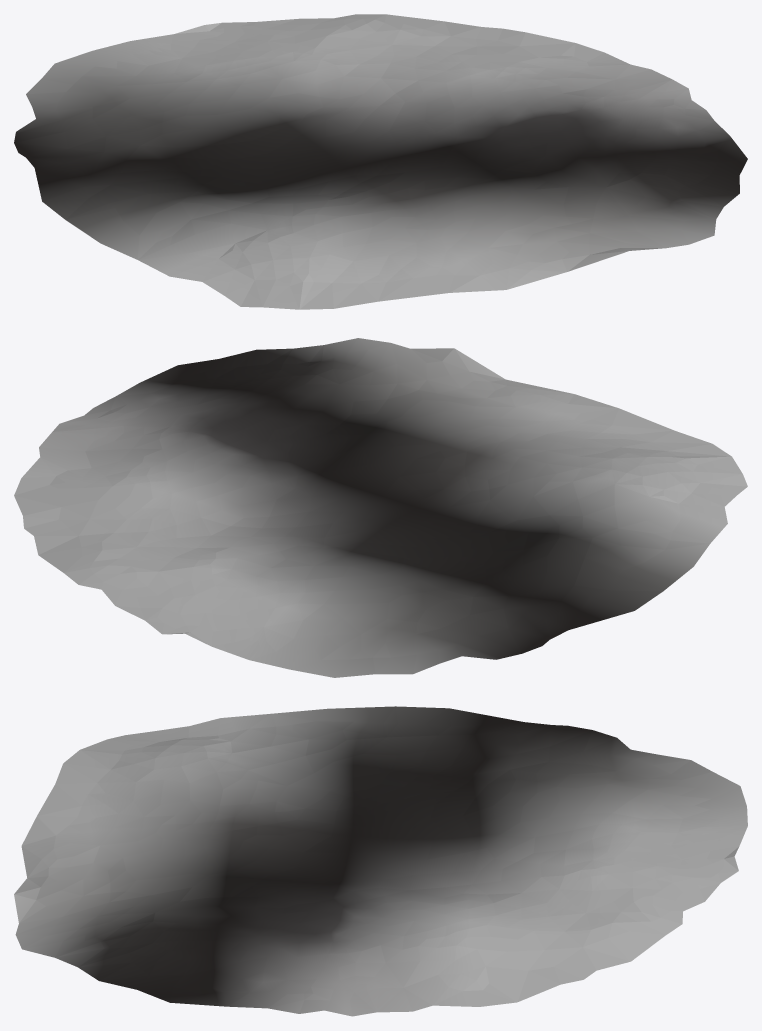
Rendered from SM_Gen_Env_Ground_Grass_Large_03.glb.
The picture shows the model from 3 angles, top to bottom: view 1: azimuth 30°, elevation 25°; view 2: azimuth 150°, elevation 25°; view 3: azimuth 270°, elevation 25°; orthographic projection. The views are drawn at different scales.
Parts seen in each view (by area): view 1: SM_Gen_Env_Ground_Grass_Large_03; view 2: SM_Gen_Env_Ground_Grass_Large_03; view 3: SM_Gen_Env_Ground_Grass_Large_03.
Boxes of the visible parts, x1=… form: SM_Gen_Env_Ground_Grass_Large_03: x1=14, y1=14, x2=747, y2=309; SM_Gen_Env_Ground_Grass_Large_03: x1=14, y1=338, x2=747, y2=677; SM_Gen_Env_Ground_Grass_Large_03: x1=14, y1=706, x2=747, y2=1016.
Size of the model in its own units: 42.09 by 1.51 by 42.18.
1 material, 1 textured.
